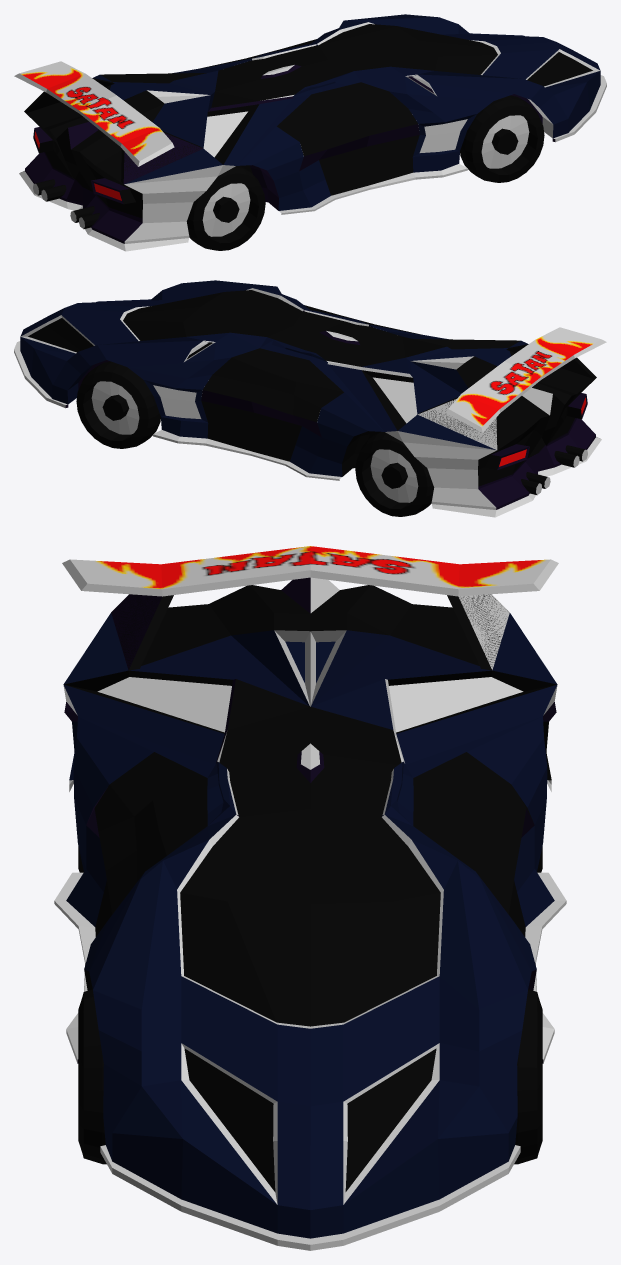
Rendered from car.fbx.
The picture shows the model from 3 angles, top to bottom: view 1: azimuth 30°, elevation 25°; view 2: azimuth 150°, elevation 25°; view 3: azimuth 270°, elevation 25°; orthographic projection. The views are drawn at different scales.
Visible parts, largest first — view 1: Plane; view 2: Plane; view 3: Plane.
Boxes of the visible parts, x1=… form: Plane: x1=14, y1=14, x2=606, y2=251; Plane: x1=14, y1=280, x2=606, y2=517; Plane: x1=54, y1=546, x2=566, y2=1250.
Size of the model in its own units: 964 by 219 by 392.
